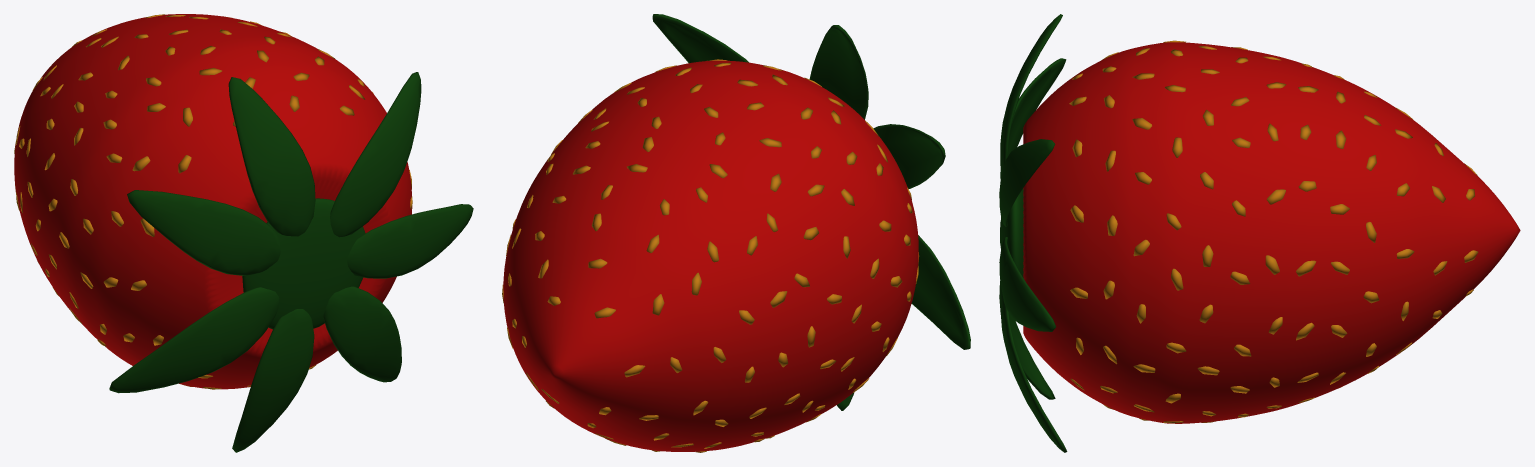
File: strawberry_ripe_visual_v2.obj
3 views of the same model, side by side, from view 1: azimuth 30°, elevation 25°; view 2: azimuth 150°, elevation 25°; view 3: azimuth 270°, elevation 25° (orthographic). The views are drawn at different scales.
Visible parts, largest first — view 1: strawberry_ripe_body_v5, calyx_leaf_v5_03, calyx_leaf_v5_02, calyx_leaf_v5_04, calyx_center_v5, calyx_leaf_v5_01, calyx_leaf_v5_05, calyx_leaf_v5_00, strawberry_seeds_v5, calyx_leaf_v5_06; view 2: strawberry_ripe_body_v5, strawberry_seeds_v5, calyx_leaf_v5_02, calyx_leaf_v5_04, calyx_leaf_v5_03, calyx_leaf_v5_01; view 3: strawberry_ripe_body_v5, strawberry_seeds_v5, calyx_leaf_v5_00, calyx_leaf_v5_01, calyx_leaf_v5_03, calyx_leaf_v5_06, calyx_leaf_v5_02, calyx_center_v5, calyx_leaf_v5_05.
Boxes of the visible parts, x1=… form: strawberry_ripe_body_v5: x1=14, y1=14, x2=412, y2=389; calyx_leaf_v5_03: x1=127, y1=190, x2=280, y2=275; calyx_leaf_v5_02: x1=228, y1=77, x2=315, y2=236; calyx_leaf_v5_04: x1=109, y1=287, x2=279, y2=393; calyx_center_v5: x1=242, y1=198, x2=365, y2=329; calyx_leaf_v5_01: x1=330, y1=72, x2=421, y2=237; calyx_leaf_v5_05: x1=232, y1=309, x2=314, y2=452; calyx_leaf_v5_00: x1=347, y1=204, x2=473, y2=278; strawberry_seeds_v5: x1=14, y1=14, x2=412, y2=389; calyx_leaf_v5_06: x1=323, y1=286, x2=401, y2=382; strawberry_ripe_body_v5: x1=503, y1=60, x2=918, y2=451; strawberry_seeds_v5: x1=502, y1=59, x2=919, y2=452; calyx_leaf_v5_02: x1=809, y1=25, x2=868, y2=119; calyx_leaf_v5_04: x1=911, y1=235, x2=970, y2=349; calyx_leaf_v5_03: x1=873, y1=124, x2=945, y2=188; calyx_leaf_v5_01: x1=652, y1=14, x2=748, y2=63; strawberry_ripe_body_v5: x1=1023, y1=42, x2=1520, y2=423; strawberry_seeds_v5: x1=1069, y1=40, x2=1478, y2=423; calyx_leaf_v5_00: x1=999, y1=237, x2=1055, y2=331; calyx_leaf_v5_01: x1=999, y1=139, x2=1055, y2=226; calyx_leaf_v5_03: x1=1000, y1=58, x2=1066, y2=179; calyx_leaf_v5_06: x1=1000, y1=288, x2=1067, y2=452; calyx_leaf_v5_02: x1=1000, y1=14, x2=1062, y2=176; calyx_center_v5: x1=1000, y1=188, x2=1023, y2=277; calyx_leaf_v5_05: x1=999, y1=281, x2=1055, y2=399.
Bounding box in the file's own units: 0.0475 × 0.0467 × 0.0572.
